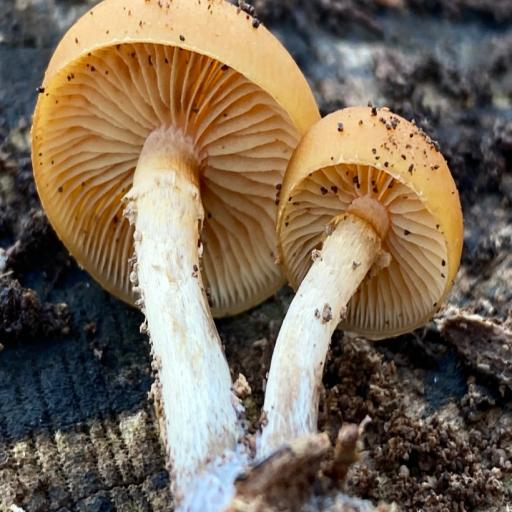Funeral Bell: (30, 0, 472, 512)
